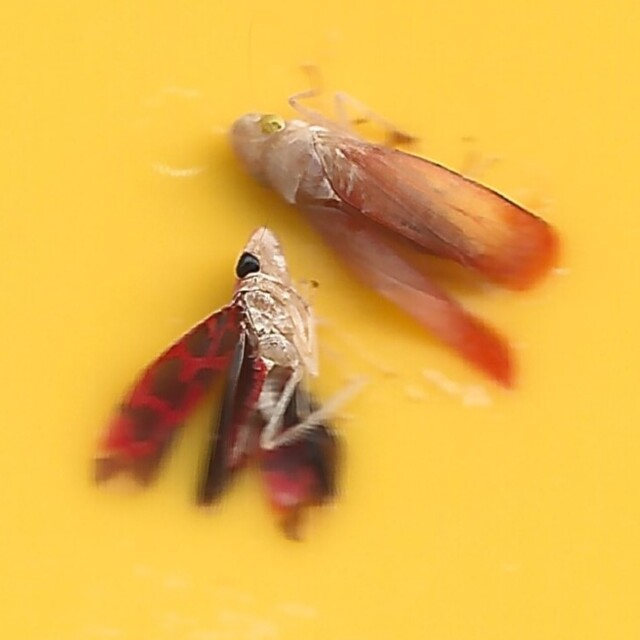Hemiptera: (229, 100, 553, 394), (87, 229, 352, 540)
